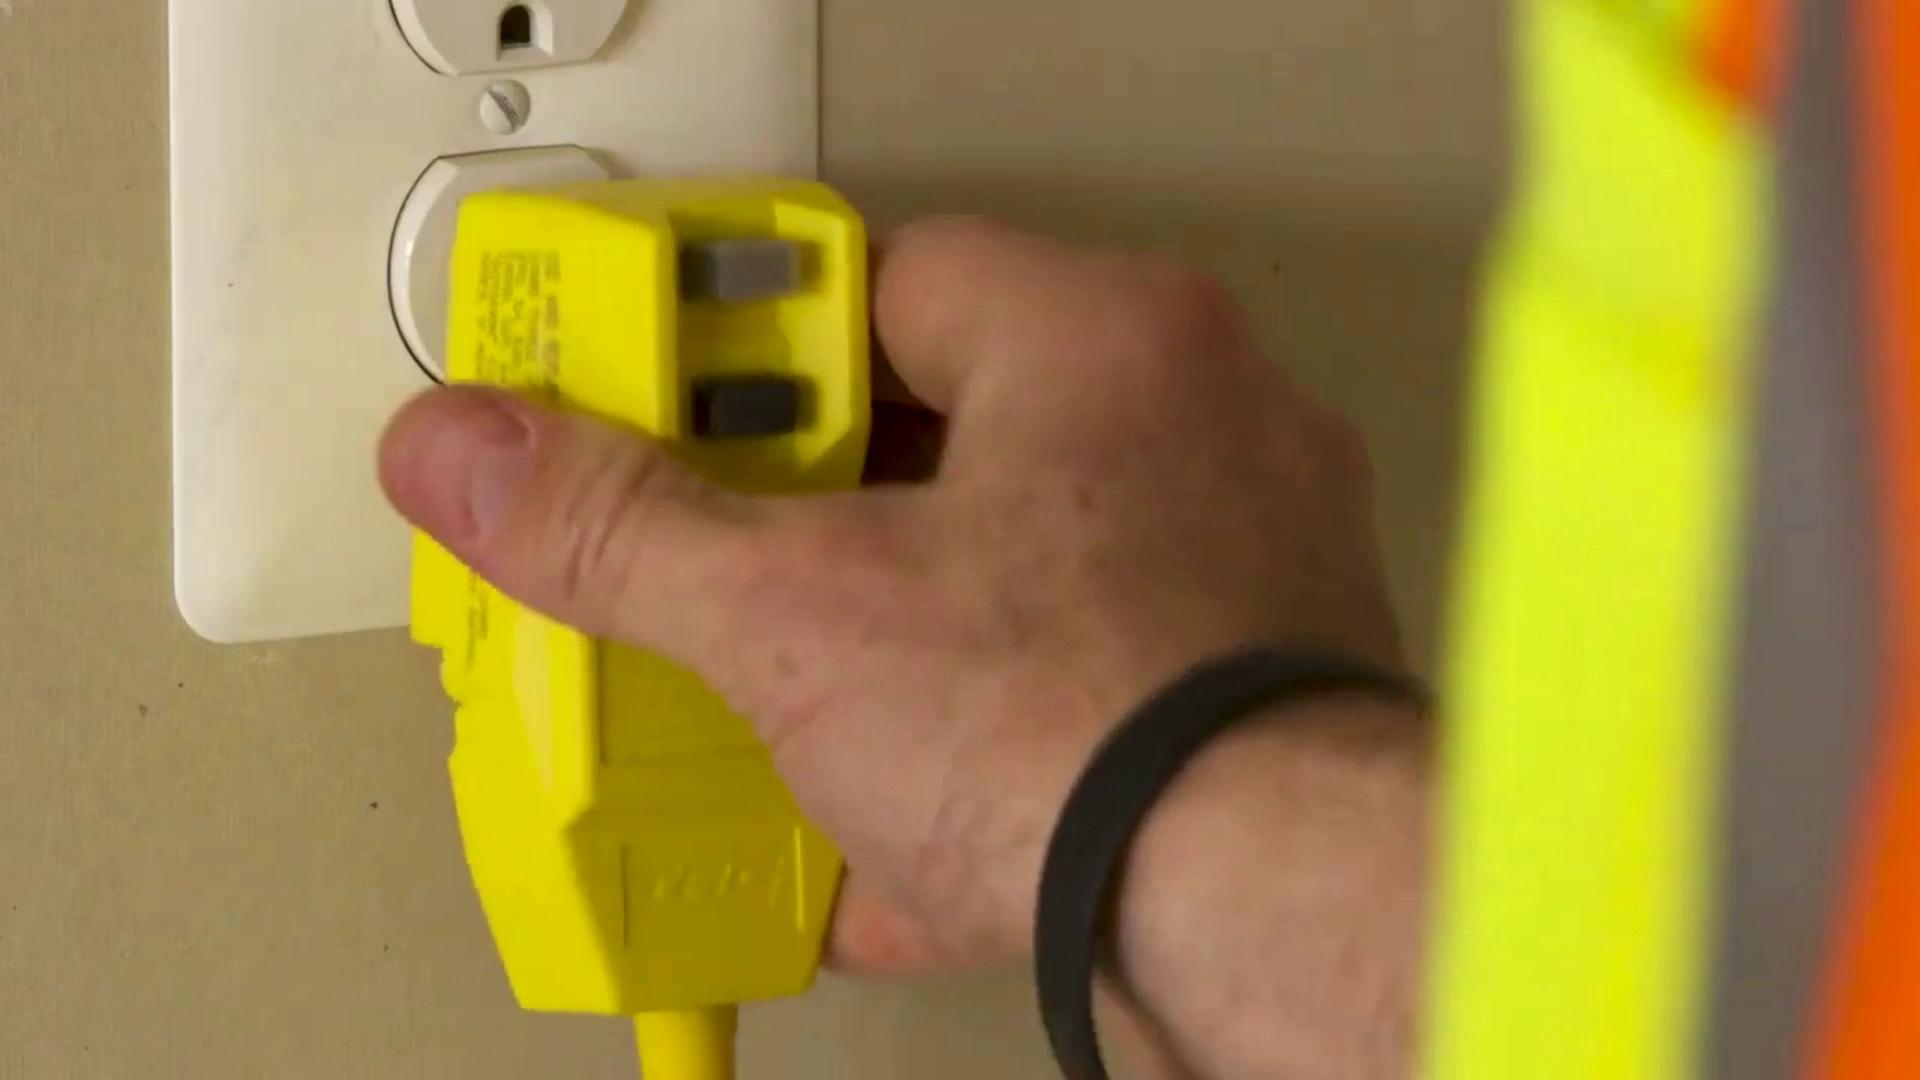vest: (1501, 1, 1920, 1080)
